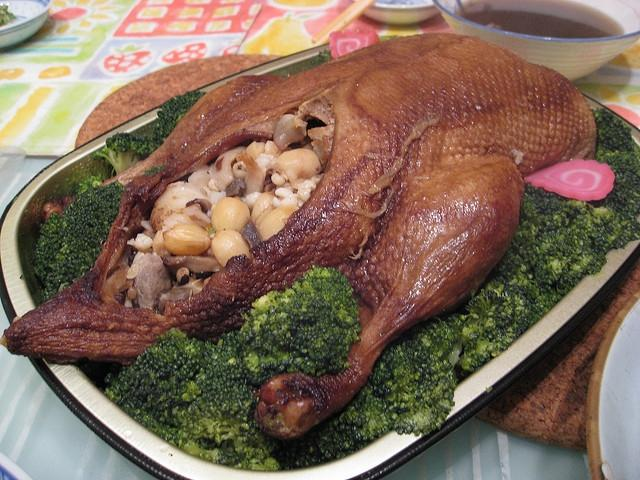broccoli: (104, 264, 362, 472), (269, 381, 400, 472), (32, 178, 124, 304), (369, 340, 459, 437), (512, 212, 606, 296), (587, 107, 640, 249), (460, 288, 534, 373), (152, 90, 208, 148), (565, 200, 623, 254), (92, 132, 160, 178), (520, 181, 578, 225)
garlic: (272, 147, 322, 190), (162, 223, 211, 255), (212, 230, 254, 267), (258, 205, 300, 241), (211, 197, 250, 234), (246, 142, 266, 160)
